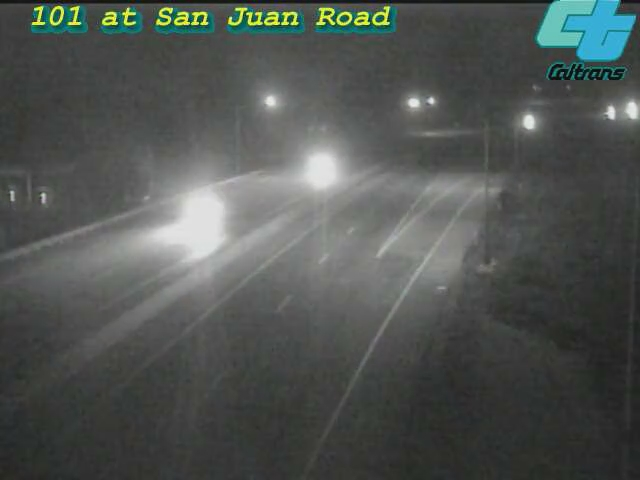vehicle: (177, 165, 257, 245), (278, 126, 358, 206), (503, 98, 553, 148), (586, 89, 636, 139), (600, 86, 640, 136)
